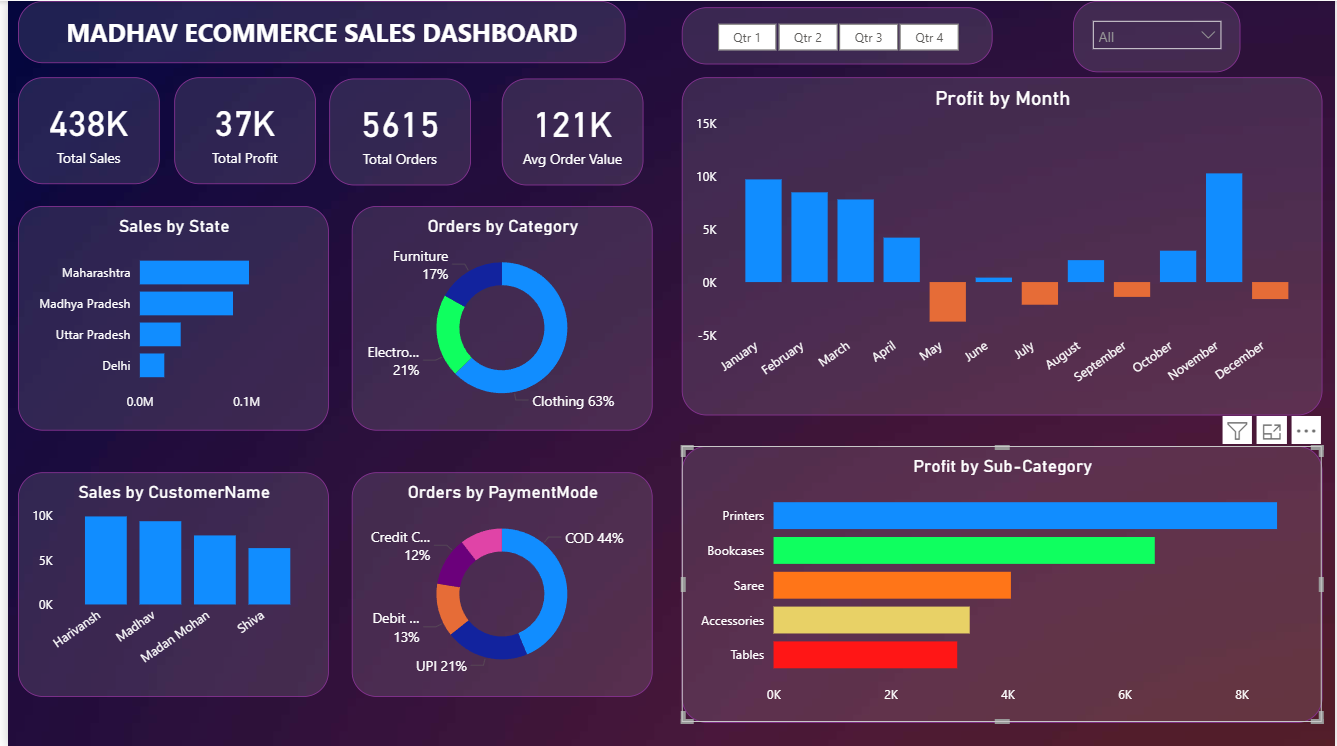

What the dashboard file says about the page in this screenshot:
{"tool":"powerbi","page":{"name":"Page 1","canvas":[1280,720],"ordinal":0},"visuals":[{"type":"textbox","box":[9.6,0,586.7,60.3],"z":0},{"type":"columnChart","title":"Profit by Month","fields":{"Category":["Orders.Order Date.Variation.Date Hierarchy.Month"],"Y":["Sum(Details.Profit)"]},"box":[649.7,74,618.2,326.2],"z":1000},{"type":"barChart","fields":{"Category":["Details.Sub-Category"],"Y":["Sum(Details.Profit)"]},"box":[649.7,429,618.2,267.3],"z":2000},{"type":"donutChart","fields":{"Category":["Details.Category"],"Y":["Sum(Details.Quantity)"]},"box":[331.7,197.4,290.6,216.6],"z":3000},{"type":"donutChart","fields":{"Y":["Sum(Details.Quantity)"],"Category":["Details.PaymentMode"]},"box":[331.7,455.1,290.6,216.6],"z":4000},{"type":"card","fields":{"Values":["Sum(Details.Amount)"]},"box":[9.6,74,137.1,102.8],"z":5000},{"type":"card","fields":{"Values":["Sum(Details.Profit)"]},"box":[160.4,74,137.1,102.8],"z":6000},{"type":"card","fields":{"Values":["Sum(Details.Quantity)"]},"box":[309.8,75.4,137.1,102.8],"z":7000},{"type":"card","fields":{"Values":["Sum(Details.AOV)"]},"box":[477,75.4,137.1,102.8],"z":8000},{"type":"barChart","fields":{"Category":["Orders.State"],"Y":["Sum(Details.Amount)"]},"box":[9.6,197.4,300.2,216.6],"z":9000},{"type":"columnChart","fields":{"Category":["Orders.CustomerName"],"Y":["Sum(Details.Amount)"]},"box":[10,455,300,217],"z":10000},{"type":"slicer","fields":{"Values":["Orders.Order Date.Variation.Date Hierarchy.Quarter"]},"box":[649.7,5.5,300.2,54.8],"z":11000},{"type":"slicer","fields":{"Values":["Orders.State"]},"box":[1028.1,0,161.7,68.5],"z":12000}]}

Visuals, with their boxes in screenshot pixels (x1, y1, x2, y2), scaled from the page's 1280x720 canvas onto the 1337x746 screenshot:
textbox: rect(10, 0, 623, 62)
"Profit by Month" columnChart: rect(679, 77, 1324, 415)
barChart - Details.Sub-Category x Sum(Details.Profit): rect(679, 444, 1324, 721)
donutChart - Details.Category x Sum(Details.Quantity): rect(346, 205, 650, 429)
donutChart - Sum(Details.Quantity) x Details.PaymentMode: rect(346, 472, 650, 696)
card - Sum(Details.Amount): rect(10, 77, 153, 183)
card - Sum(Details.Profit): rect(168, 77, 311, 183)
card - Sum(Details.Quantity): rect(324, 78, 467, 185)
card - Sum(Details.AOV): rect(498, 78, 641, 185)
barChart - Orders.State x Sum(Details.Amount): rect(10, 205, 324, 429)
columnChart - Orders.CustomerName x Sum(Details.Amount): rect(10, 471, 324, 696)
slicer - Orders.Order Date.Variation.Date Hierarchy.Quarter: rect(679, 6, 992, 62)
slicer - Orders.State: rect(1074, 0, 1243, 71)
